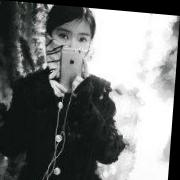WRONG: (50, 21, 93, 69)
